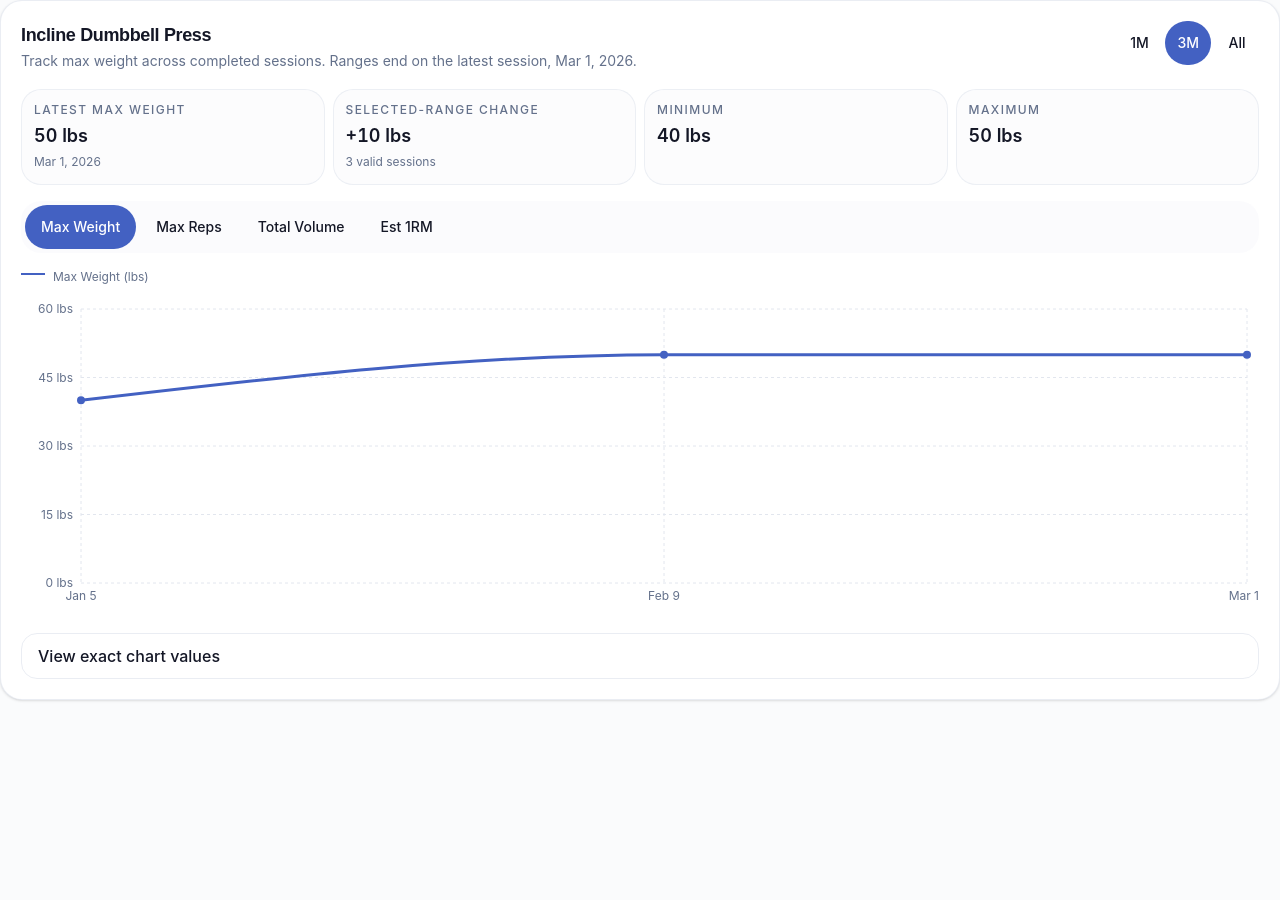
Test: ExerciseTrendChart › renders metric selector and switches metric values
Expected: the button "Max Weight" is shown, 25,205 -> 136,249
Expected: the text "Latest max weight" is shown, 34,102 -> 186,117
Click the button "Total Volume" at [301, 227], box 242,205 -> 361,249
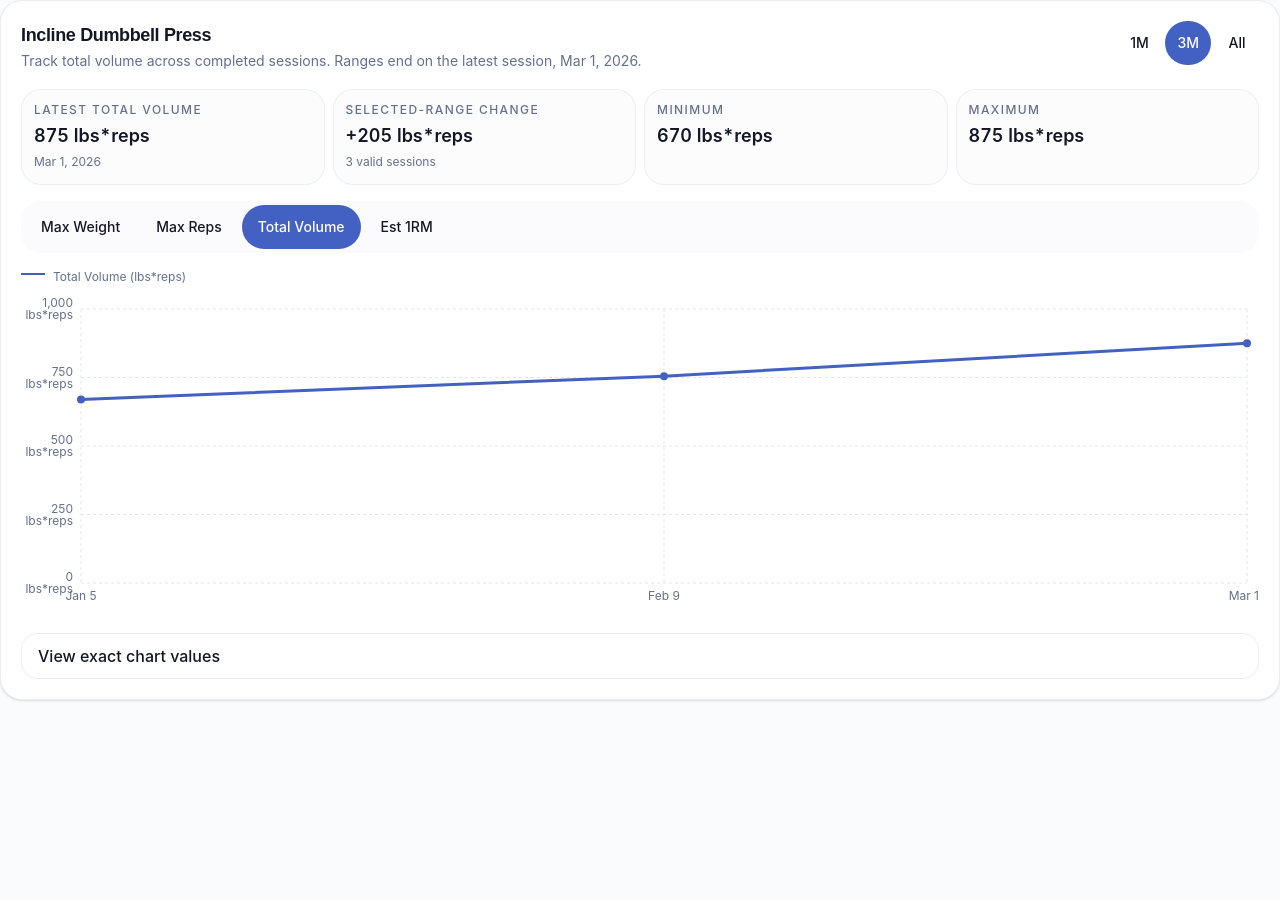
Expected: the text "Latest total volume" is shown, 34,102 -> 202,117
